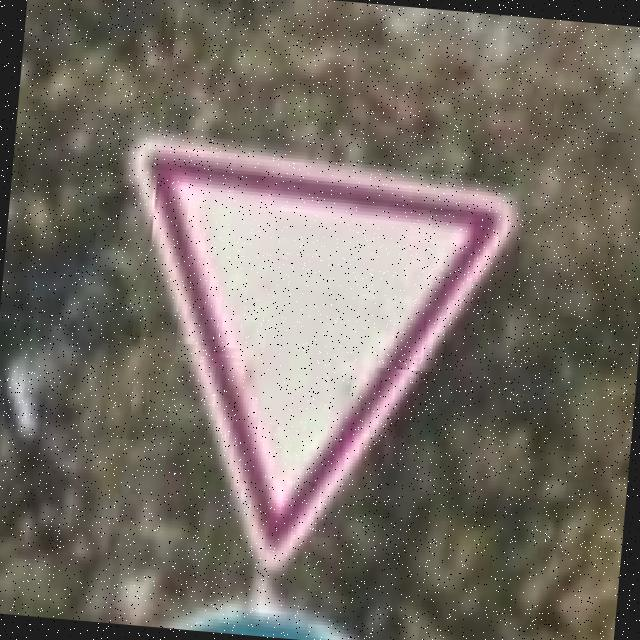Ustap pierwszenstwa: (92, 130, 526, 598)
